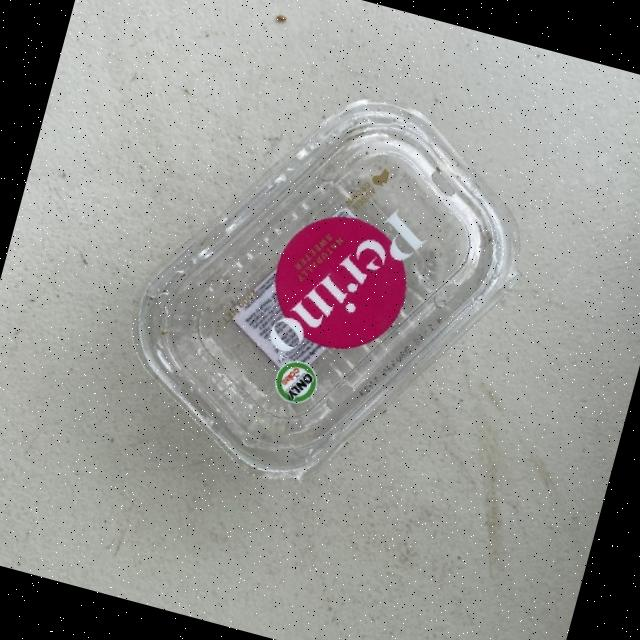plastic: (101, 50, 554, 528)
